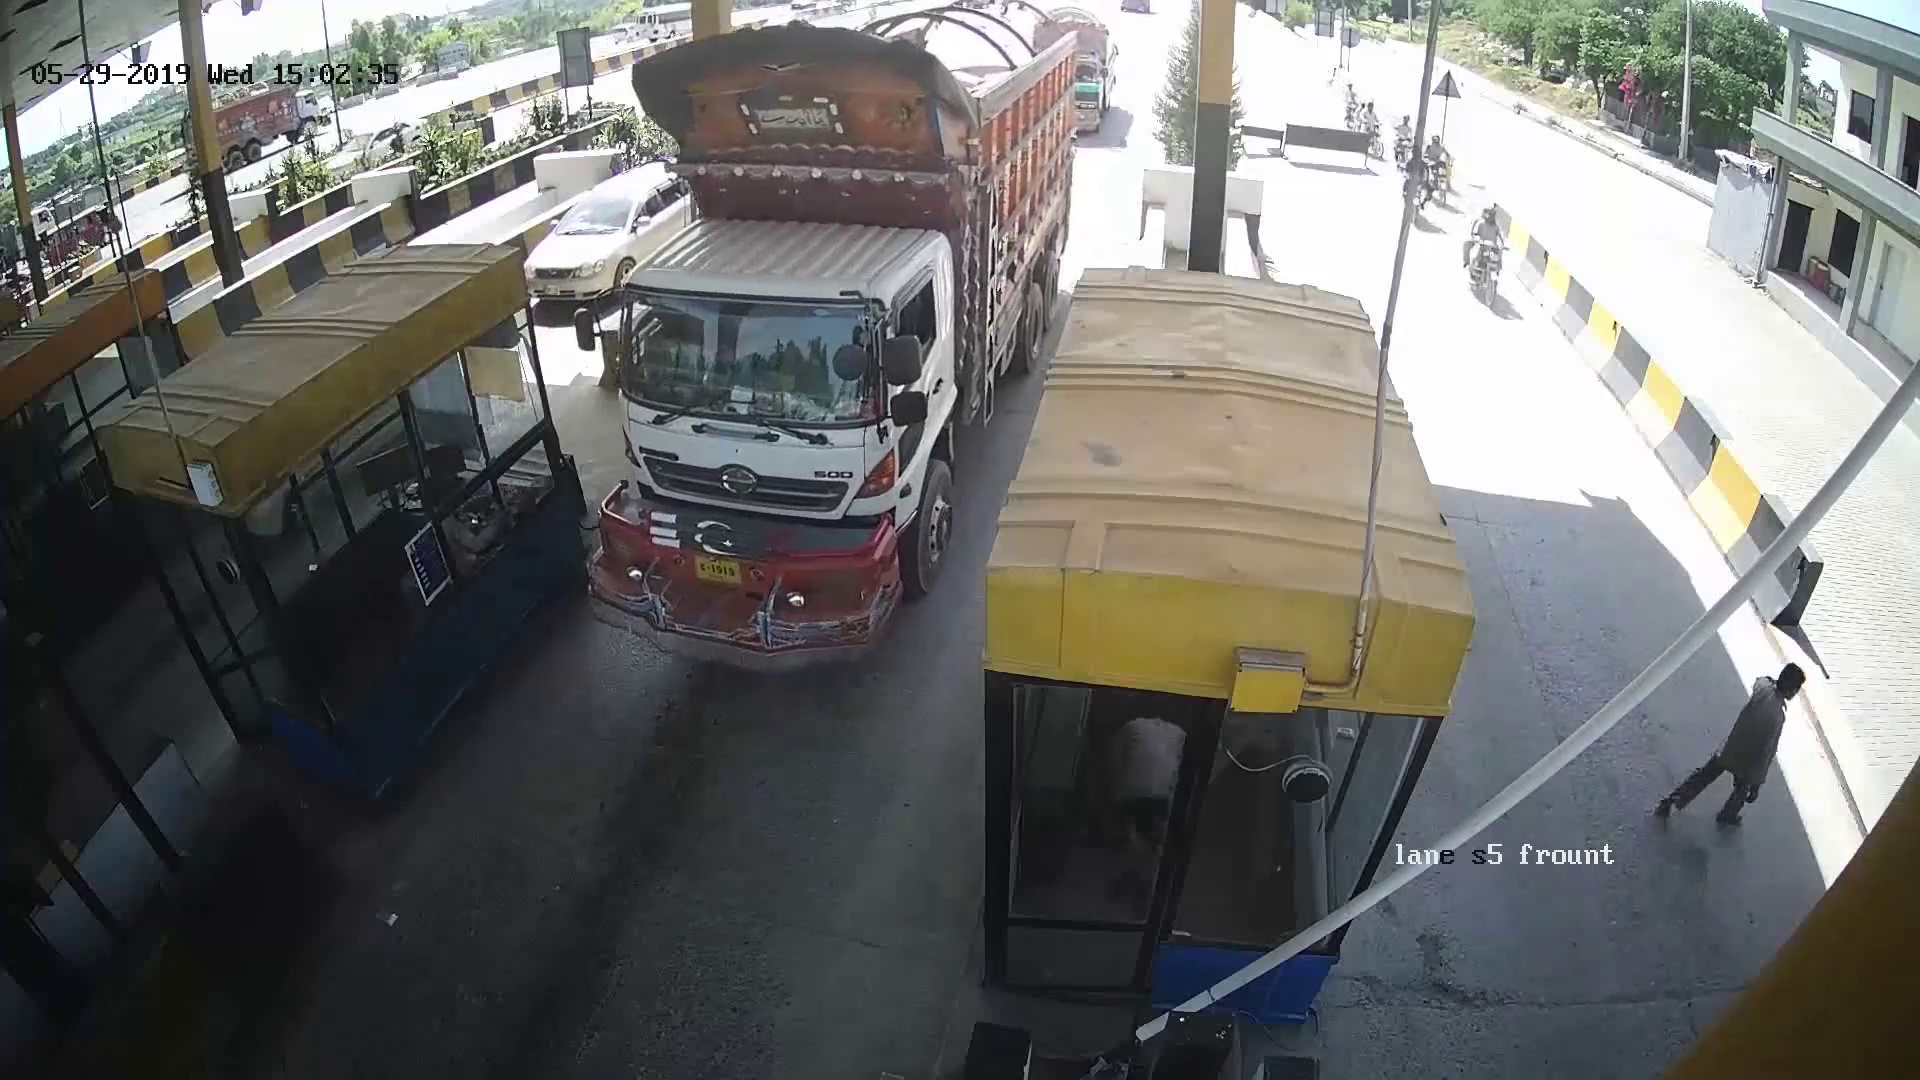truck: (609, 36, 1055, 658)
